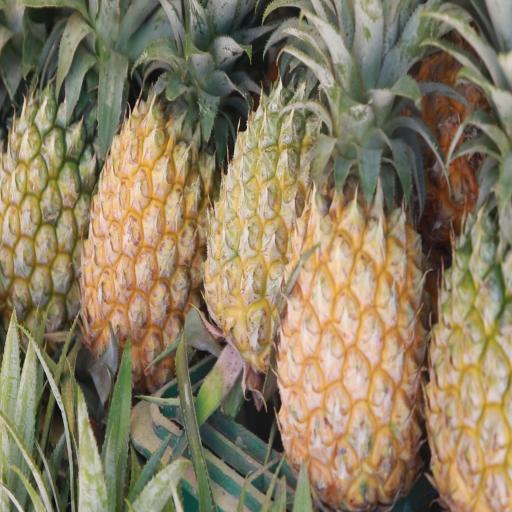------------------------------: (0, 0, 106, 347)
Pineapple - v8 v1: (274, 88, 429, 512), (74, 0, 219, 402), (201, 0, 347, 393), (424, 106, 512, 512)
